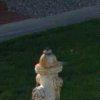Hydrant: (18, 39, 65, 100)
